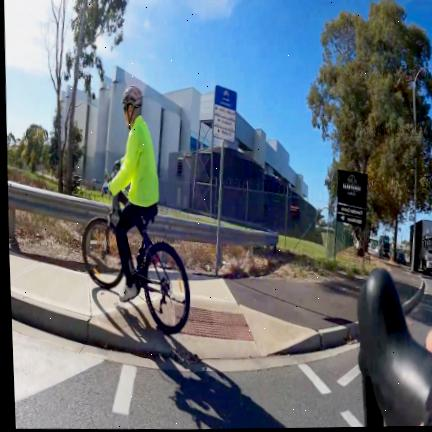Bike_Sign: (212, 85, 236, 146)
